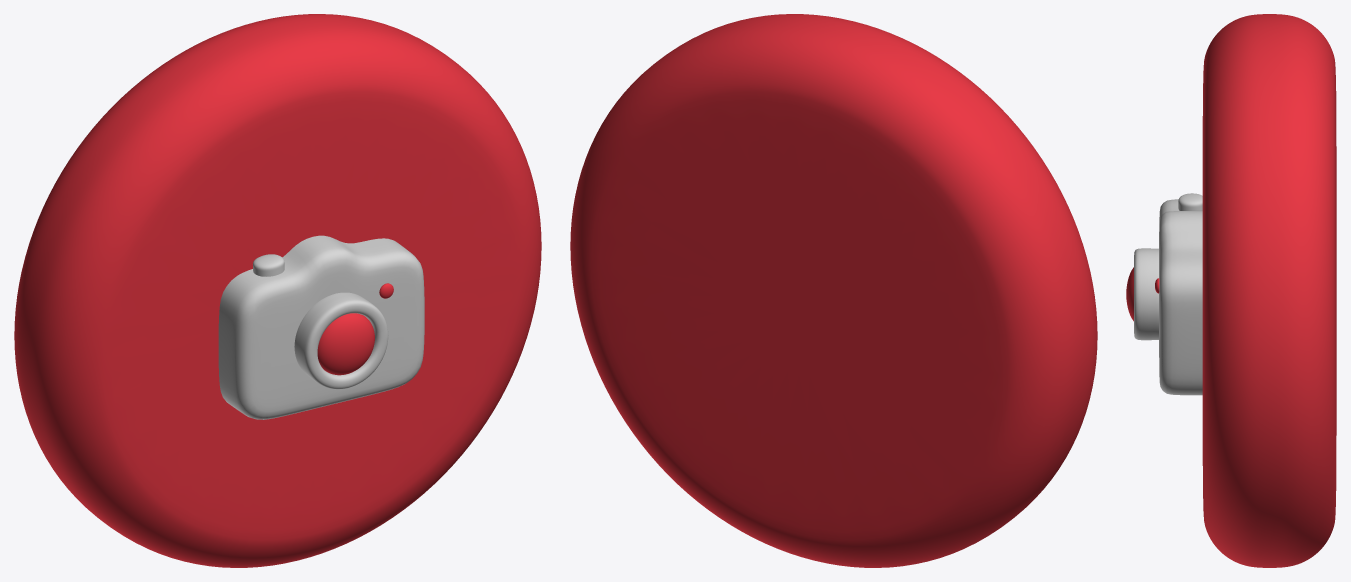
File: camera-denied-animation-3d-icon-1710218865794.glb
3 renders of one model, left to right at view 1: azimuth 30°, elevation 25°; view 2: azimuth 150°, elevation 25°; view 3: azimuth 270°, elevation 25°, orthographic. The views are drawn at different scales.
Parts seen in each view (by area): view 1: Base.009, Camera.002, Lens; view 2: Base.009; view 3: Base.009, Camera.002, Lens.
Boxes of the visible parts, box(x1,y1,x2,y2) form: Base.009: box(14, 14, 541, 567); Camera.002: box(218, 235, 424, 419); Lens: box(317, 313, 374, 375); Base.009: box(570, 14, 1097, 567); Base.009: box(1202, 14, 1336, 567); Camera.002: box(1134, 193, 1202, 395); Lens: box(1126, 267, 1133, 321).
Bounding box in the file's own units: 2.38 × 2.38 × 0.906.
